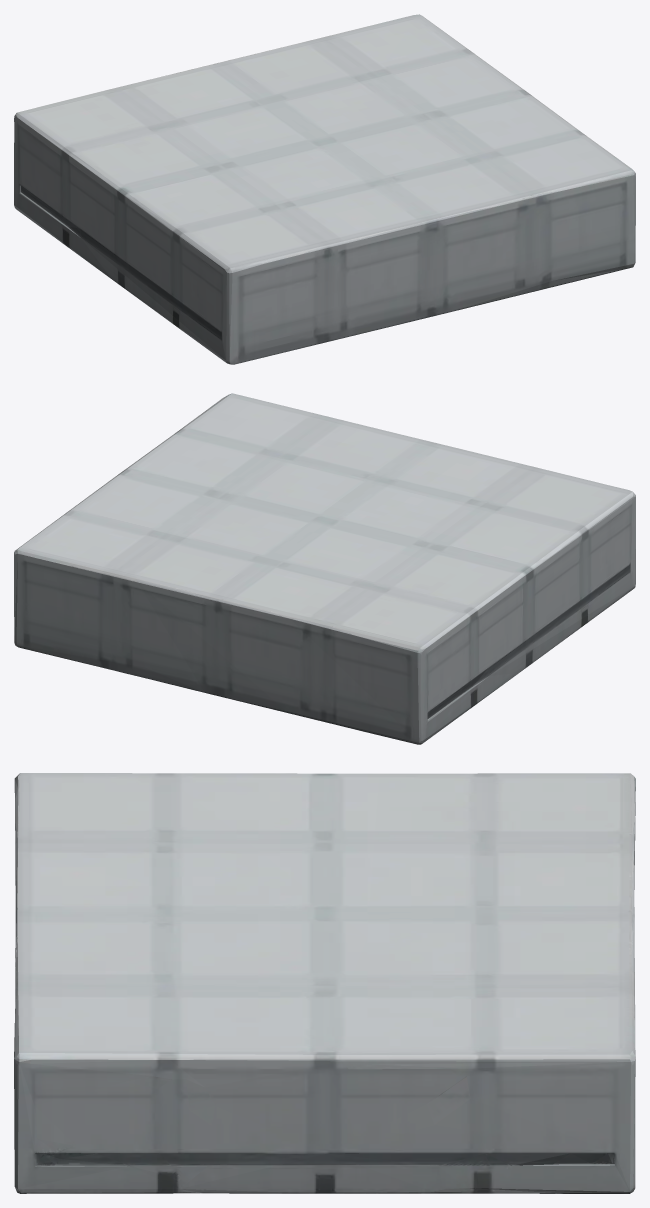
Rendered from floor-white.glb.
3 renders of one model, top to bottom at view 1: azimuth 30°, elevation 25°; view 2: azimuth 150°, elevation 25°; view 3: azimuth 270°, elevation 25°, orthographic. The views are drawn at different scales.
Parts seen in each view (by area): view 1: geometry_0; view 2: geometry_0; view 3: geometry_0.
Boxes of the visible parts, x1,y1,x2,y2 form: geometry_0: [14, 14, 635, 364]; geometry_0: [14, 393, 635, 744]; geometry_0: [14, 773, 635, 1193].
Bounding box in the file's own units: 0.9994 × 0.2286 × 0.9187.
1 material, 1 textured.
